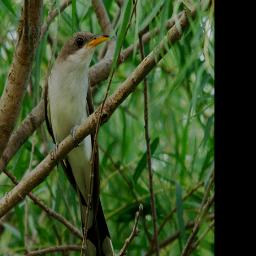Cuckoo: (43, 31, 115, 256)
